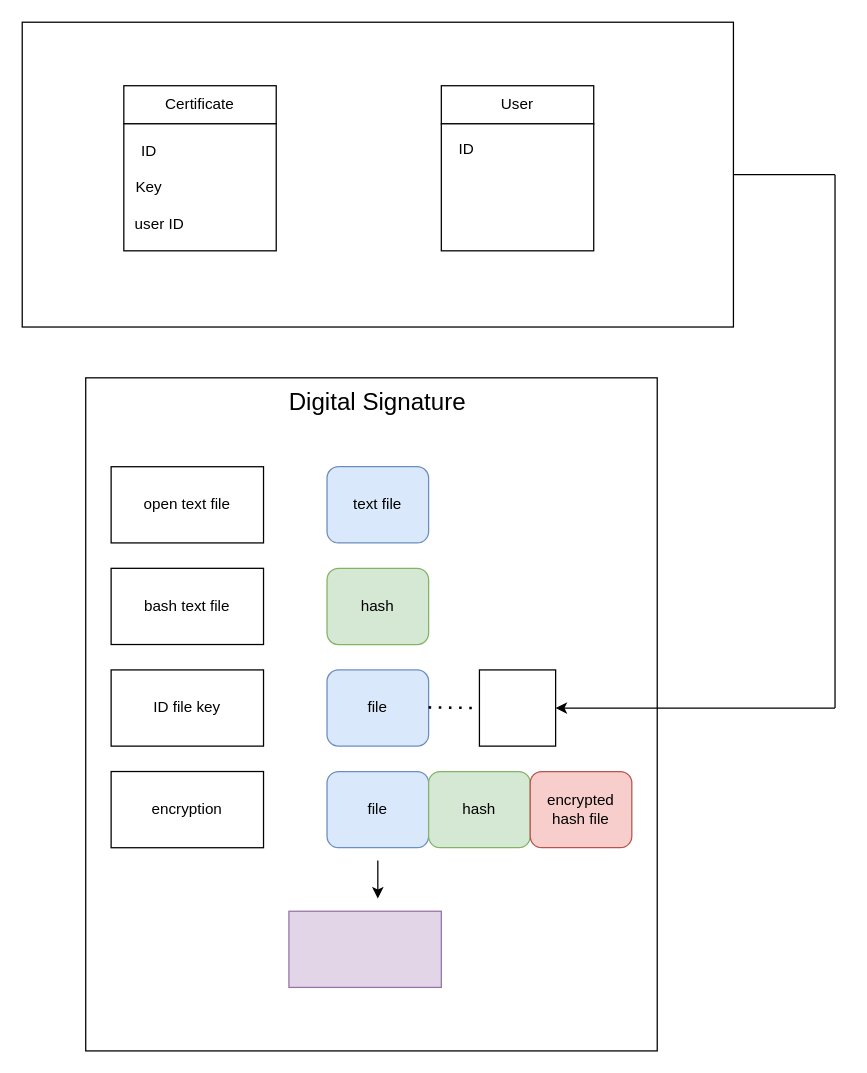
Image size: 867x1073. Some labels were removed from this diagram. The centre of each missing label's shape, as x and y in pixels:
Digital certificate: the point at 364,948
Key: the point at 517,707
